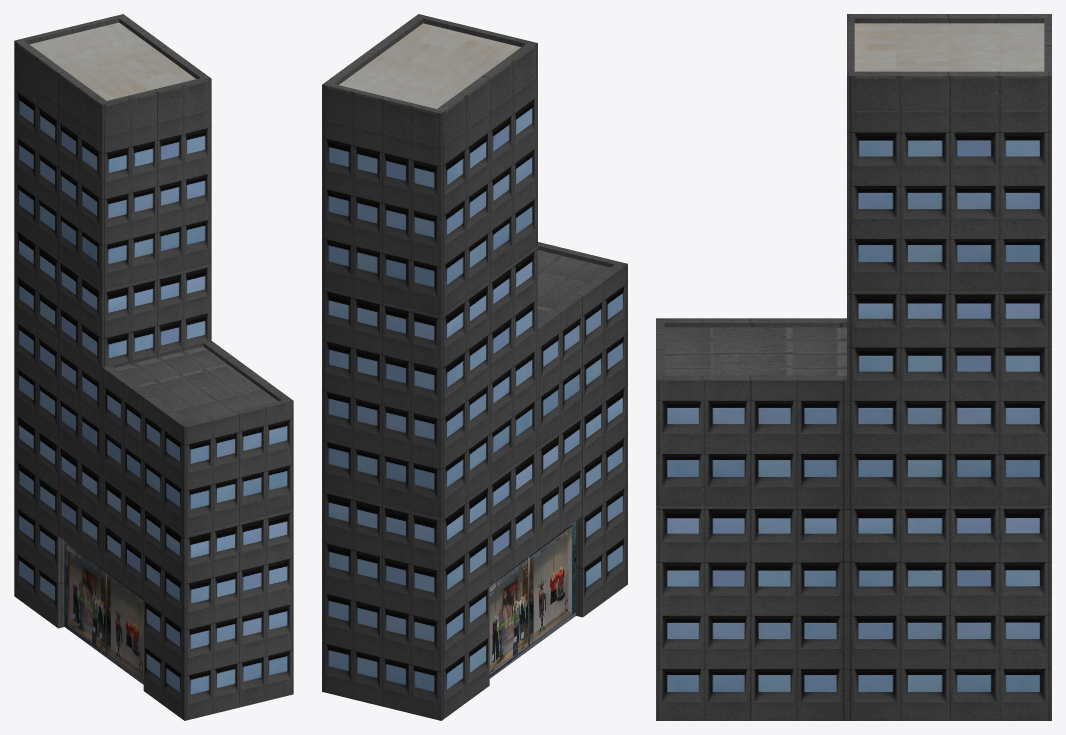
The model's file is house3.fbx.
3 renders of one model, left to right at view 1: azimuth 30°, elevation 25°; view 2: azimuth 150°, elevation 25°; view 3: azimuth 270°, elevation 25°, orthographic. The views are drawn at different scales.
Visible parts, largest first — view 1: house3; view 2: house3; view 3: house3.
Boxes of the visible parts, x1=… form: house3: x1=14, y1=14, x2=293, y2=720; house3: x1=322, y1=14, x2=627, y2=720; house3: x1=656, y1=14, x2=1051, y2=720.
Size of the model in its own units: 5 by 24.33 by 13.53.
